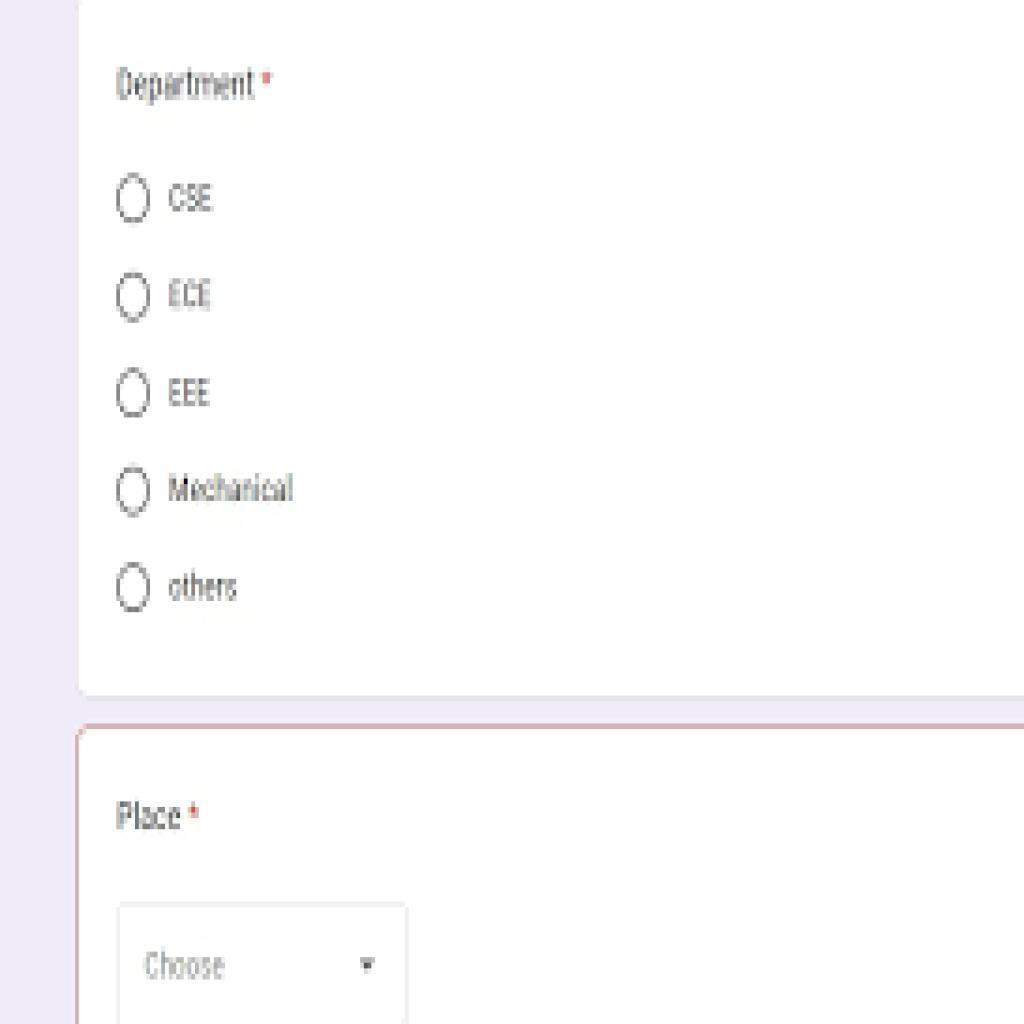dropdown: (119, 906, 409, 1024)
label: (115, 58, 278, 112), (168, 472, 297, 505), (112, 797, 205, 835), (169, 570, 240, 602), (165, 373, 217, 414), (166, 179, 218, 219), (165, 275, 217, 312)
radio: (115, 171, 154, 225), (114, 562, 153, 615), (115, 272, 153, 325), (116, 367, 152, 421), (117, 467, 152, 519)
